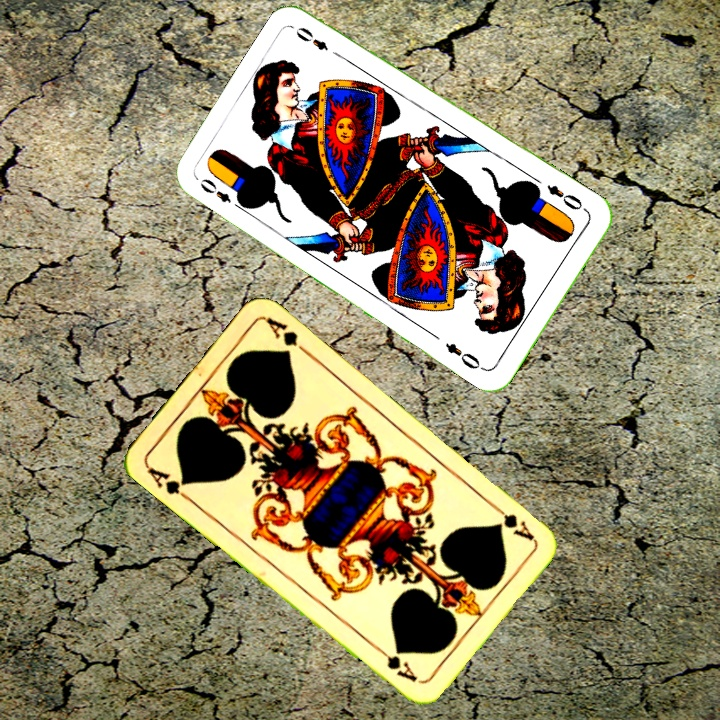EO: (196, 174, 247, 213), (542, 180, 585, 213)
GA: (487, 499, 537, 544), (143, 462, 194, 504)
